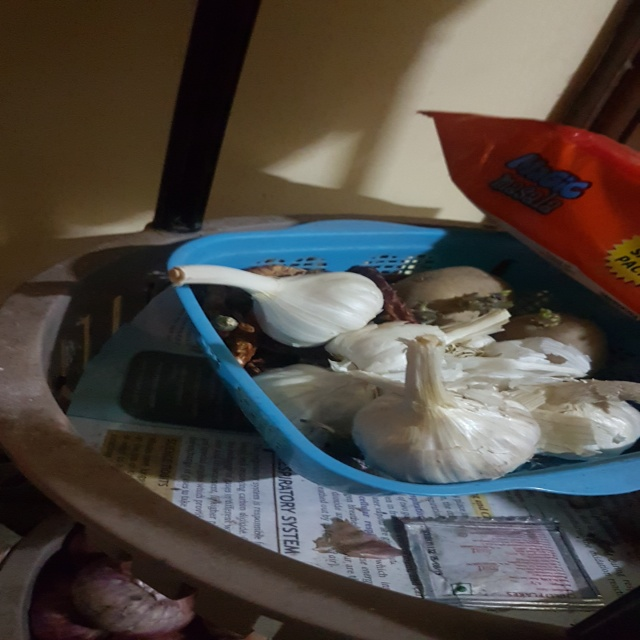garlic: (342, 327, 548, 491), (145, 242, 392, 347)
